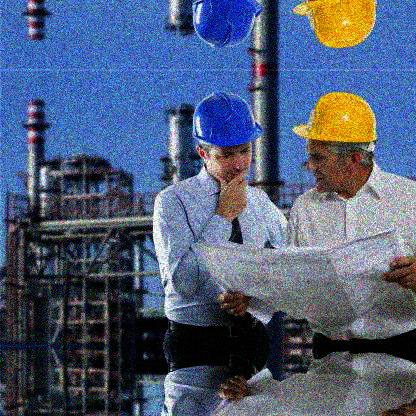helmet: (291, 94, 378, 195), (191, 90, 264, 182)
